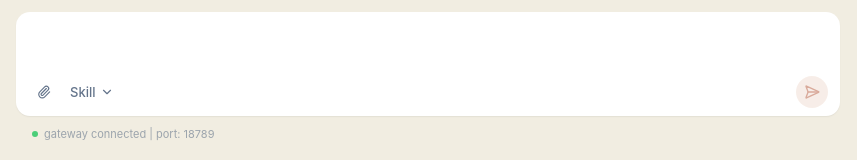
ChatInput agent targeting › allows inserting the same skill multiple times as separate blocks
Click the button titled "Choose skill". click: (92, 92)
box: [64,76,120,108]
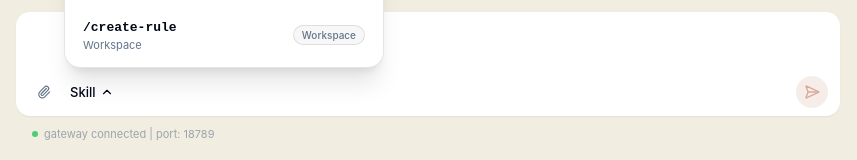
Click the button with test id "chat-composer-skill-option-create-rule". click: (134, 28)
box: [71,9,377,61]
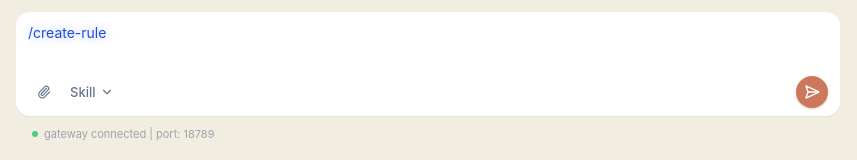
Click the button titled "Choose skill". click: (92, 92)
box: [64,76,120,108]
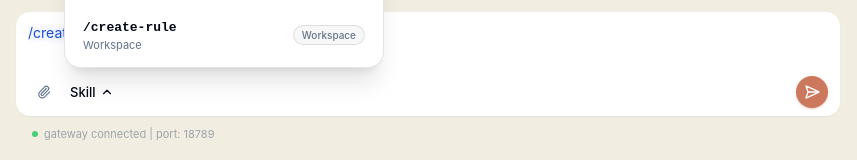
Click the button with test id "chat-composer-skill-option-create-rule". click: (134, 28)
box: [71,9,377,61]
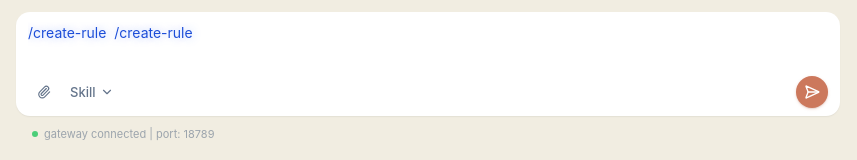
Expected: the text box holds "/create-rule  /create-rule  ", [28,22,828,70]
Expected: the number of buttons with test id "chat-composer-skill-token" is 2, [28,22,106,45]; [114,22,193,45]
